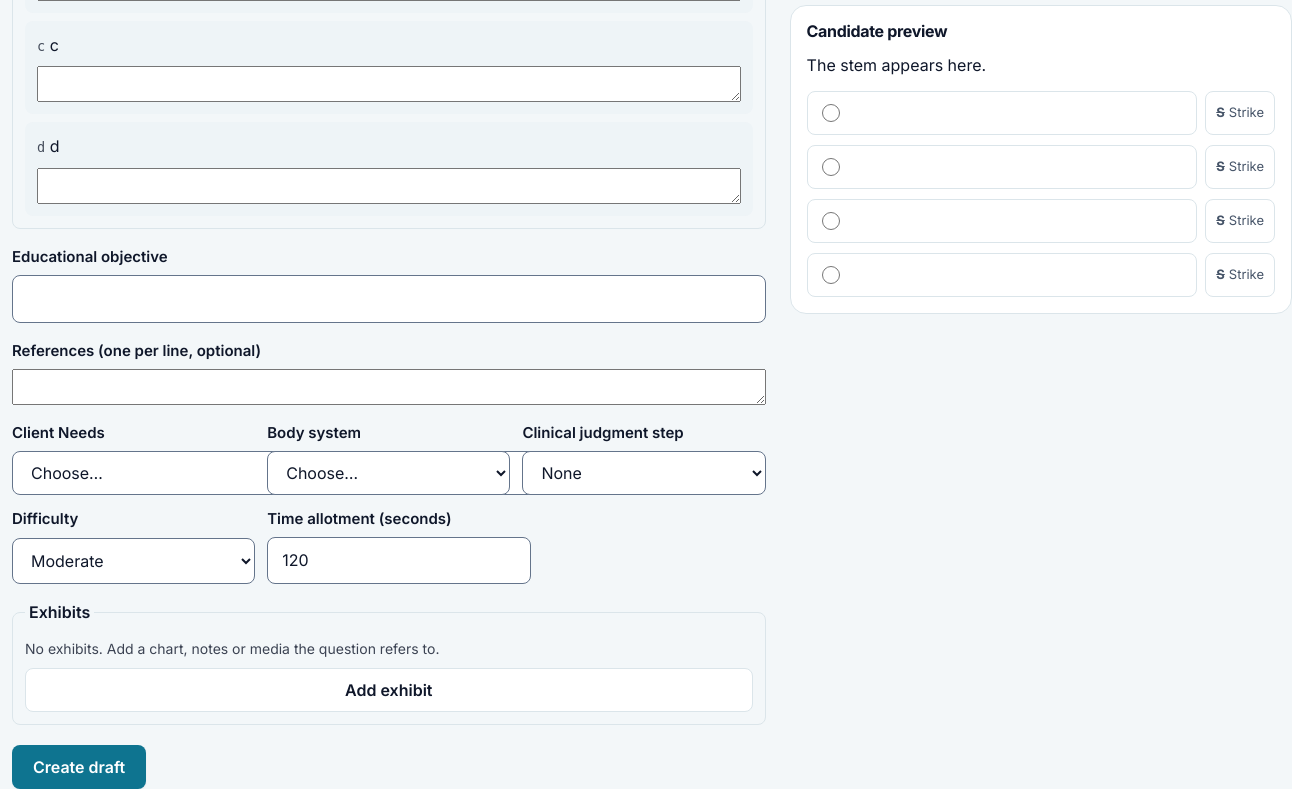
it: DraftForm › checks the simple fields before sending anything
(page scrolled)
Click the button "Create draft" at (79, 767), box [12,745,146,788]
(page scrolled)
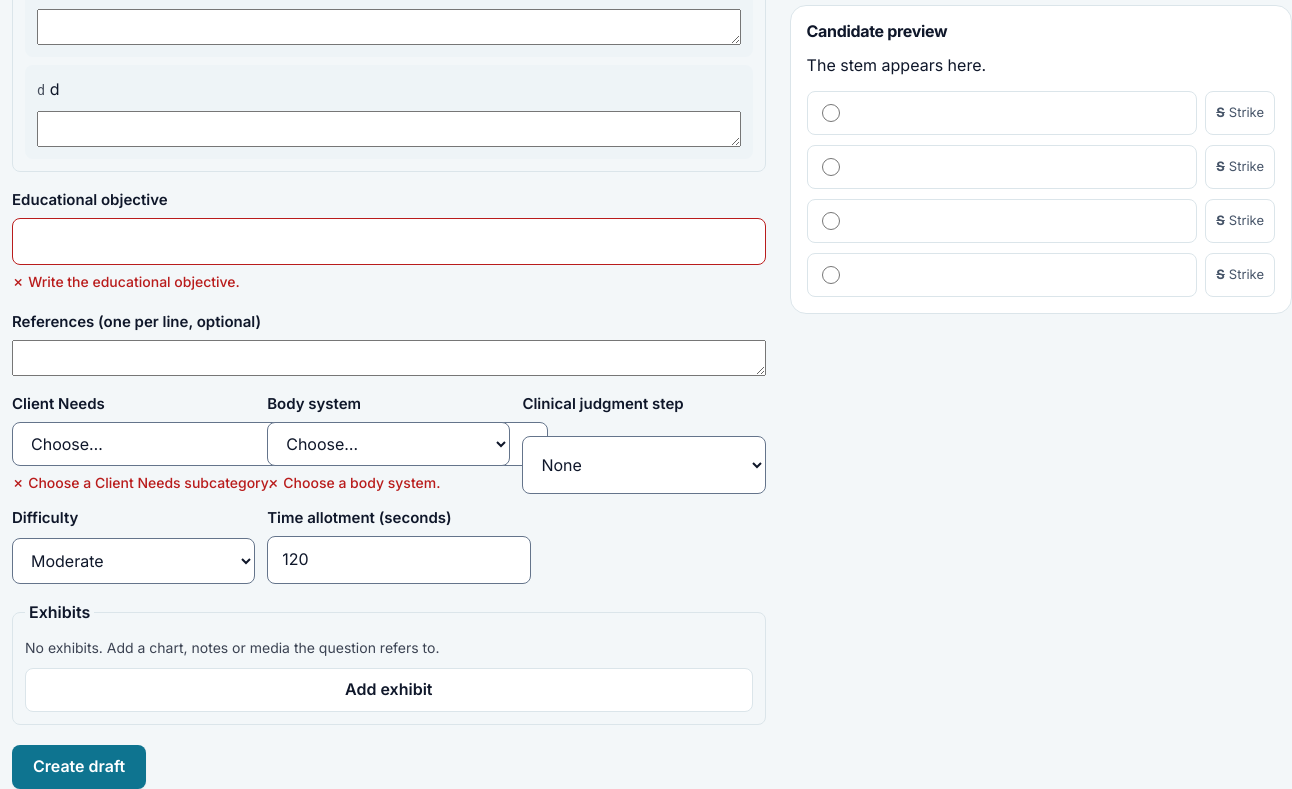
Check: the text "Choose a Client Needs subcategory." is shown, box [28,474,272,491]
